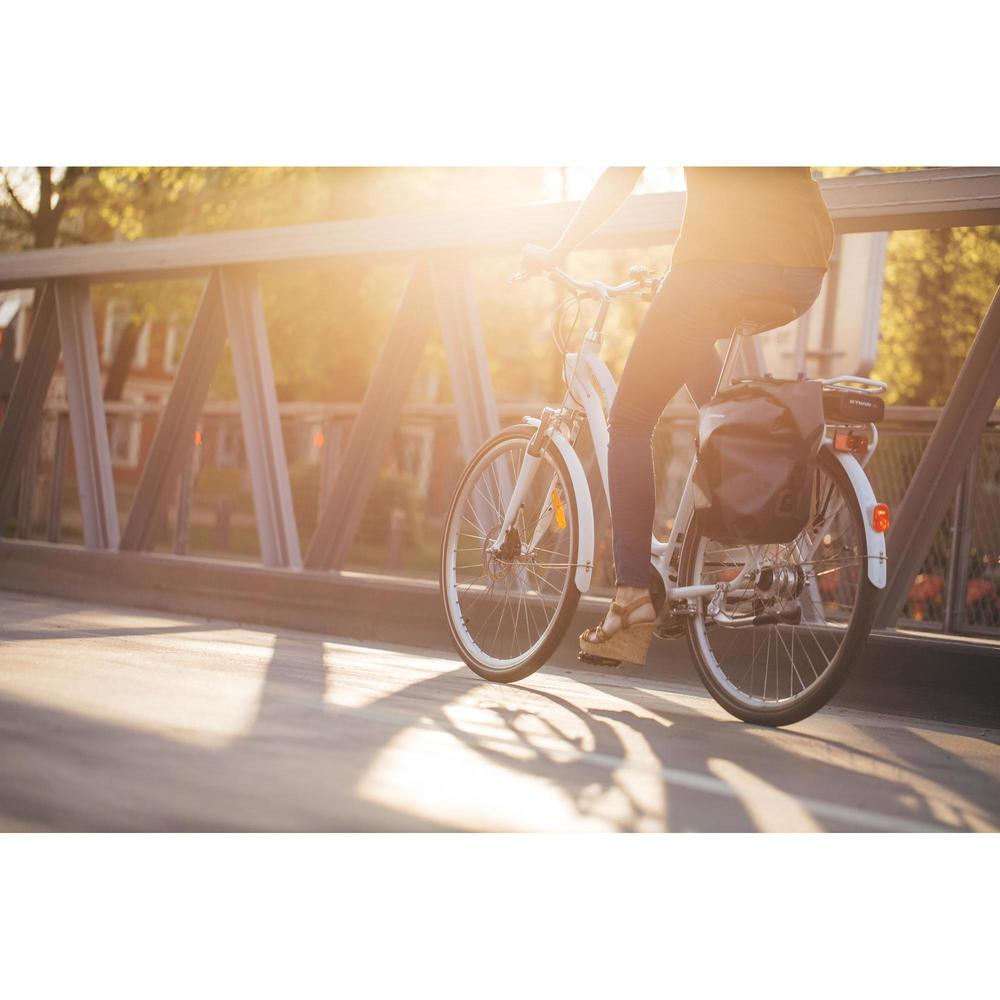UrbanBike: (427, 243, 890, 751)
